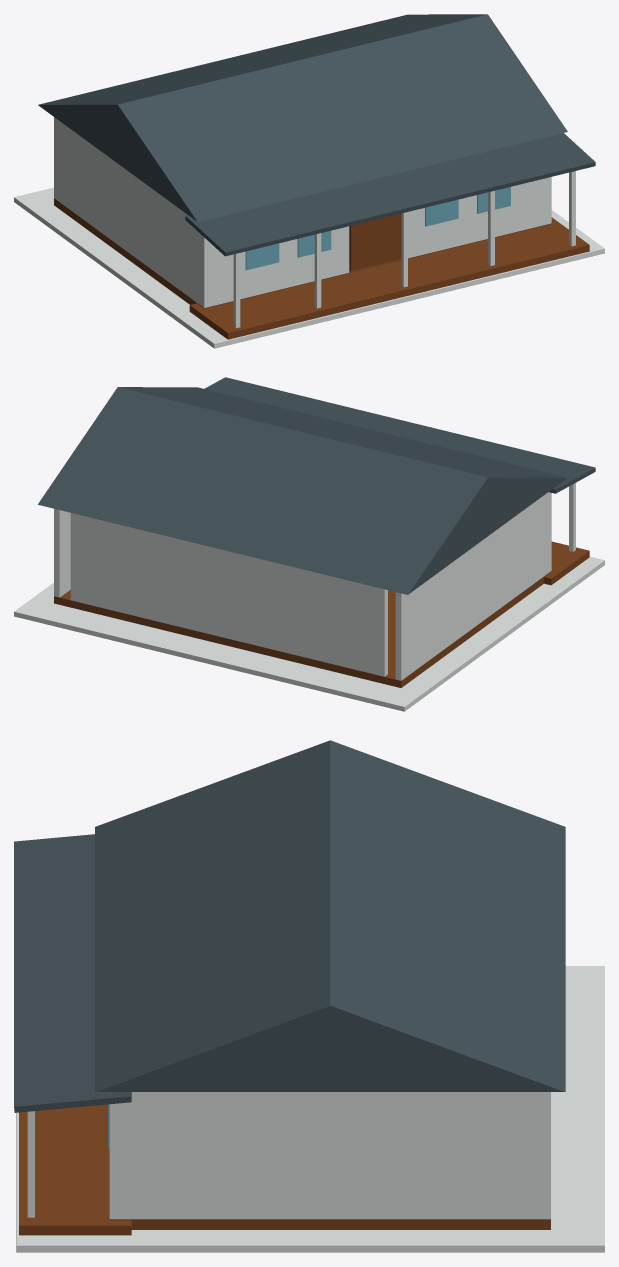
The model's file is edited.glb.
3 views of the same model, one above another, from view 1: azimuth 30°, elevation 25°; view 2: azimuth 150°, elevation 25°; view 3: azimuth 270°, elevation 25° (orthographic). The views are drawn at different scales.
Visible parts, largest first — view 1: ROOF_Main, VERANDA_Roof, VERANDA_Deck, SIDE_Wall, SITE, FRONT_Wall, FRONT_Wall.001, ENTRY_Door, HOUSE_Floor, FRONT_Window, FRONT_Window.002, VERANDA_Post.001 (+6 smaller); view 2: ROOF_Main, BACK_Wall, SITE, SIDE_Wall, VERANDA_Roof, HOUSE_Floor, SIDE_Wall.001, VERANDA_Deck, VERANDA_Post; view 3: ROOF_Main, SIDE_Wall.001, SITE, VERANDA_Roof, VERANDA_Deck, HOUSE_Floor, FRONT_Wall.001, VERANDA_Post.004.
Part boxes in pixels (x1,y1,x2,y2): ROOF_Main: (38,14,567,221); VERANDA_Roof: (185,133,595,256); VERANDA_Deck: (189,217,589,339); SIDE_Wall: (54,117,209,307); SITE: (14,187,604,348); FRONT_Wall: (201,226,348,307); FRONT_Wall.001: (408,177,551,258); ENTRY_Door: (350,213,401,271); HOUSE_Floor: (54,198,551,308); FRONT_Window: (245,243,279,270); FRONT_Window.002: (425,199,458,226); VERANDA_Post.001: (314,233,321,308); ROOF_Main: (38,387,567,594); BACK_Wall: (70,513,387,676); SITE: (14,556,604,711); SIDE_Wall: (395,492,551,680); VERANDA_Roof: (204,377,595,493); HOUSE_Floor: (54,571,551,687); SIDE_Wall.001: (54,509,70,597); VERANDA_Deck: (544,541,589,585); VERANDA_Post: (569,483,575,551); ROOF_Main: (95,740,565,1091); SIDE_Wall.001: (109,1092,550,1219); SITE: (16,966,604,1252); VERANDA_Roof: (14,834,131,1112); VERANDA_Deck: (19,1104,131,1235); HOUSE_Floor: (109,1219,550,1229); FRONT_Wall.001: (109,1103,119,1219); VERANDA_Post.004: (27,1111,34,1217).
Size of the model in its own units: 13.5 by 5.4 by 12.05.
